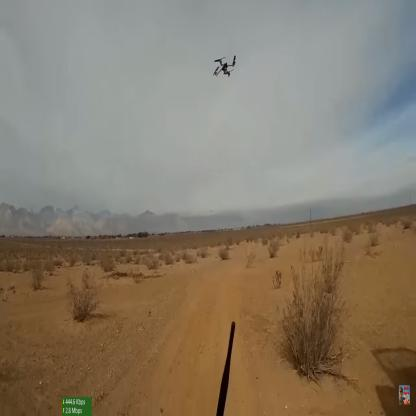drone: (211, 53, 242, 84)
